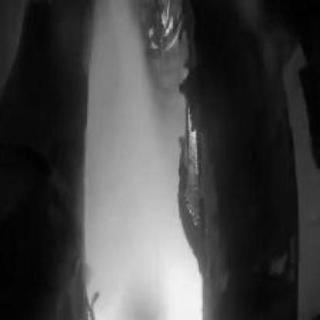Fire: (153, 7, 181, 51), (187, 123, 203, 177)
Smoke: (96, 57, 184, 316)
